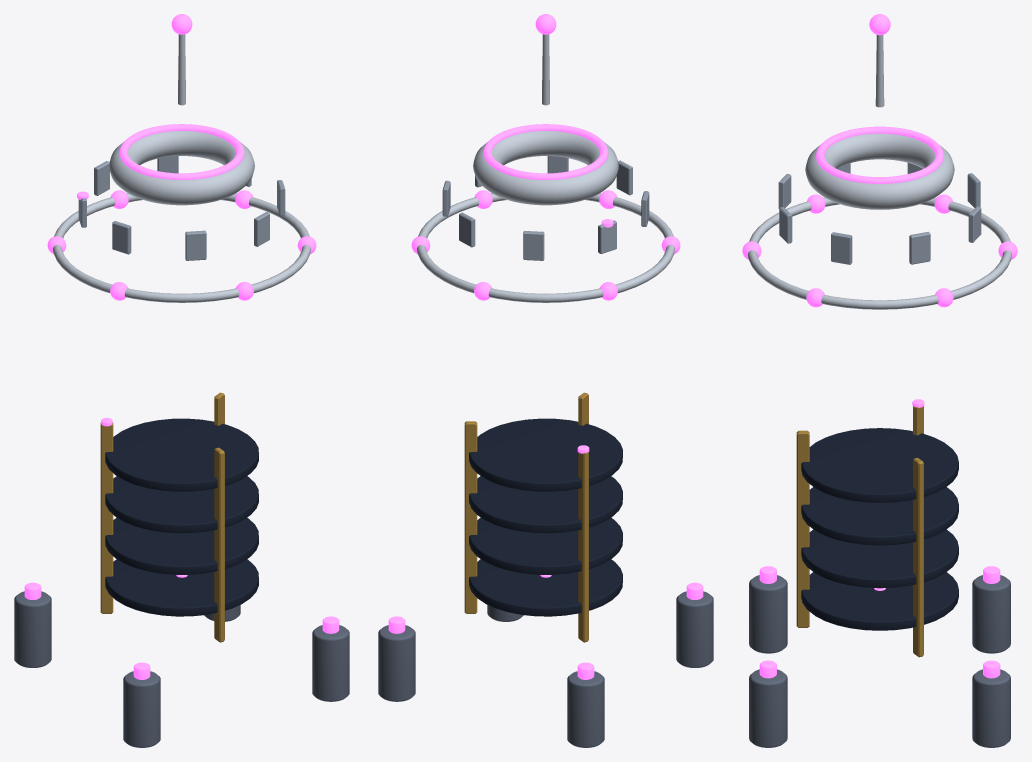
The model's file is tower_arc_damage_s8.glb.
3 views of the same model, side by side, from view 1: azimuth 30°, elevation 25°; view 2: azimuth 150°, elevation 25°; view 3: azimuth 270°, elevation 25° (orthographic). The views are drawn at different scales.
Parts seen in each view (by area): view 1: arc_insulator_sleeve3, arc_toroid_b, arc_insulator_sleeve2, arc_insulator_sleeve1, arc_insulator_sleeve0, arc_electrode_ring, arc_shock_cap2, arc_shock_cap3, arc_shock_cap0, arc_toroid_b_glow, arc_ground_strap0, arc_ground_strap2 (+3 smaller); view 2: arc_insulator_sleeve3, arc_toroid_b, arc_insulator_sleeve2, arc_insulator_sleeve1, arc_insulator_sleeve0, arc_electrode_ring, arc_shock_cap1, arc_shock_cap0, arc_shock_cap3, arc_ground_strap1, arc_toroid_b_glow, arc_ground_strap0 (+2 smaller); view 3: arc_insulator_sleeve3, arc_toroid_b, arc_insulator_sleeve2, arc_insulator_sleeve1, arc_insulator_sleeve0, arc_electrode_ring, arc_shock_cap0, arc_shock_cap3, arc_shock_cap1, arc_shock_cap2, arc_ground_strap2, arc_toroid_b_glow (+4 smaller).
Part boxes in pixels (left/top/right/bottom): arc_insulator_sleeve3: left=105, top=418, right=258, bottom=491; arc_toroid_b: left=109, top=131, right=254, bottom=205; arc_insulator_sleeve2: left=105, top=476, right=258, bottom=533; arc_insulator_sleeve1: left=105, top=517, right=258, bottom=574; arc_insulator_sleeve0: left=105, top=559, right=258, bottom=616; arc_electrode_ring: left=53, top=193, right=310, bottom=302; arc_shock_cap2: left=312, top=625, right=349, bottom=701; arc_shock_cap3: left=123, top=671, right=160, bottom=747; arc_shock_cap0: left=14, top=591, right=51, bottom=667; arc_toroid_b_glow: left=119, top=124, right=244, bottom=179; arc_ground_strap0: left=100, top=422, right=113, bottom=613; arc_ground_strap2: left=214, top=447, right=224, bottom=642; arc_insulator_sleeve3: left=469, top=418, right=622, bottom=491; arc_toroid_b: left=473, top=131, right=618, bottom=205; arc_insulator_sleeve2: left=469, top=476, right=622, bottom=533; arc_insulator_sleeve1: left=469, top=517, right=622, bottom=574; arc_insulator_sleeve0: left=469, top=559, right=622, bottom=616; arc_electrode_ring: left=417, top=193, right=674, bottom=302; arc_shock_cap1: left=378, top=625, right=415, bottom=701; arc_shock_cap0: left=567, top=671, right=604, bottom=747; arc_shock_cap3: left=676, top=591, right=713, bottom=667; arc_ground_strap1: left=464, top=421, right=477, bottom=613; arc_toroid_b_glow: left=483, top=124, right=608, bottom=179; arc_ground_strap0: left=578, top=452, right=588, bottom=642; arc_insulator_sleeve3: left=801, top=428, right=958, bottom=503; arc_toroid_b: left=805, top=133, right=954, bottom=209; arc_insulator_sleeve2: left=801, top=487, right=958, bottom=545; arc_insulator_sleeve1: left=801, top=529, right=958, bottom=588; arc_insulator_sleeve0: left=801, top=572, right=958, bottom=630; arc_electrode_ring: left=748, top=197, right=1011, bottom=309; arc_shock_cap0: left=972, top=575, right=1010, bottom=653; arc_shock_cap3: left=749, top=575, right=787, bottom=653; arc_shock_cap1: left=972, top=669, right=1010, bottom=747; arc_shock_cap2: left=749, top=669, right=787, bottom=747; arc_ground_strap2: left=796, top=430, right=809, bottom=627; arc_toroid_b_glow: left=816, top=126, right=943, bottom=183.
Bounding box in the file's own units: 1.24 × 3.51 × 1.29.
